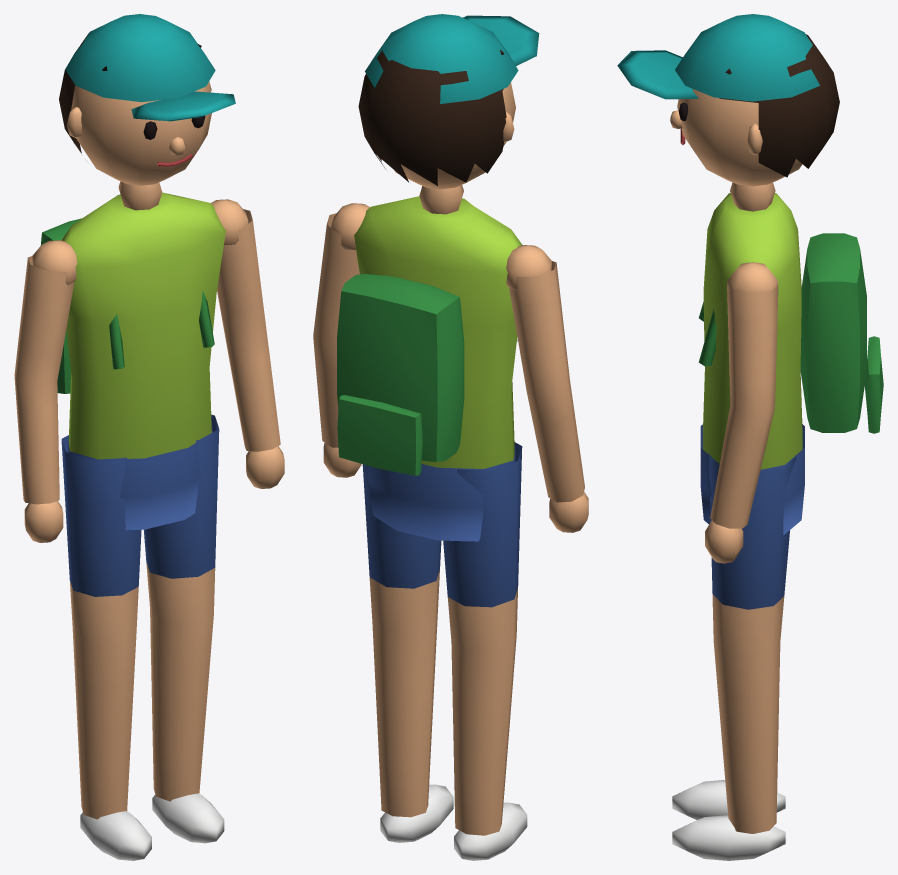
The model's file is Guest_YoungMan.obj.
3 views of the same model, side by side, from view 1: azimuth 30°, elevation 25°; view 2: azimuth 150°, elevation 25°; view 3: azimuth 270°, elevation 25° (orthographic). The views are drawn at different scales.
Parts seen in each view (by area): view 1: Torso, LegR, Head, LegL, ArmR, ArmL; view 2: Torso, LegR, Head, LegL, ArmR, ArmL; view 3: Torso, Head, LegL, ArmL, LegR.
Boxes of the visible parts, box(x1,y1,x2,y2) form: Torso: box(40, 181, 225, 530); LegR: box(61, 435, 151, 860); Head: box(59, 14, 235, 185); LegL: box(144, 414, 224, 843); ArmR: box(14, 240, 77, 542); ArmL: box(210, 199, 284, 488); Torso: box(337, 185, 522, 541); LegR: box(443, 442, 527, 860); Head: box(358, 14, 539, 189); LegL: box(362, 464, 453, 842); ArmR: box(506, 245, 588, 532); ArmL: box(313, 203, 369, 477); Torso: box(698, 182, 883, 534); Head: box(617, 14, 839, 186); LegL: box(672, 453, 796, 860); ArmL: box(705, 262, 778, 563); LegR: box(672, 780, 785, 819).
Bounding box in the file's own units: 0.6346 × 1.92 × 0.5657.
1 material, 1 textured.
